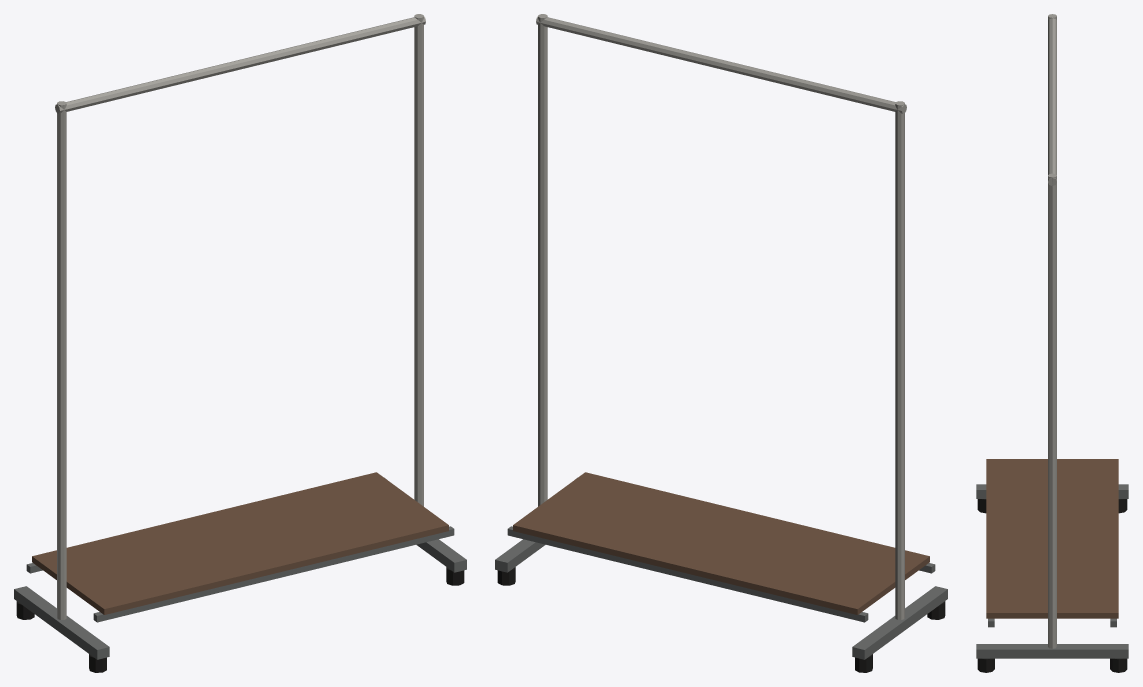
The model's file is clothes-rail.glb.
The picture shows the model from 3 angles, left to right: view 1: azimuth 30°, elevation 25°; view 2: azimuth 150°, elevation 25°; view 3: azimuth 270°, elevation 25°; orthographic projection. The views are drawn at different scales.
Visible parts, largest first — view 1: wood, brushed, metal, rubber; view 2: wood, brushed, metal, rubber; view 3: wood, brushed, metal, rubber.
Boxes of the visible parts, left/top/right/bottom form: wood: left=32, top=472, right=448, bottom=614; brushed: left=55, top=14, right=425, bottom=619; metal: left=14, top=477, right=466, bottom=659; rubber: left=16, top=567, right=464, bottom=672; wood: left=513, top=472, right=929, bottom=614; brushed: left=536, top=14, right=906, bottom=619; metal: left=495, top=477, right=947, bottom=659; rubber: left=497, top=567, right=945, bottom=672; wood: left=986, top=459, right=1118, bottom=618; brushed: left=1048, top=14, right=1056, bottom=648; metal: left=976, top=484, right=1128, bottom=658; rubber: left=977, top=499, right=1127, bottom=672.
Size of the model in its own units: 1.19 by 1.64 by 0.46.
